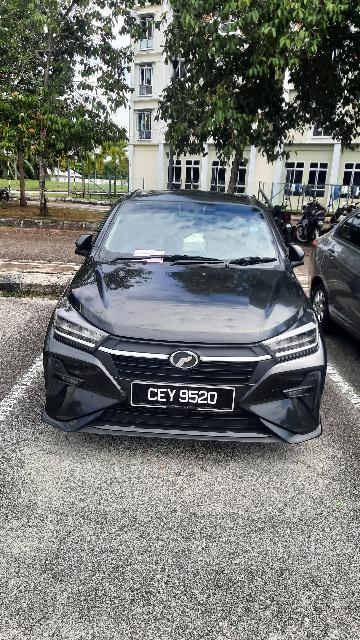License_Plate: (123, 380, 241, 417)
car: (40, 188, 329, 449)
